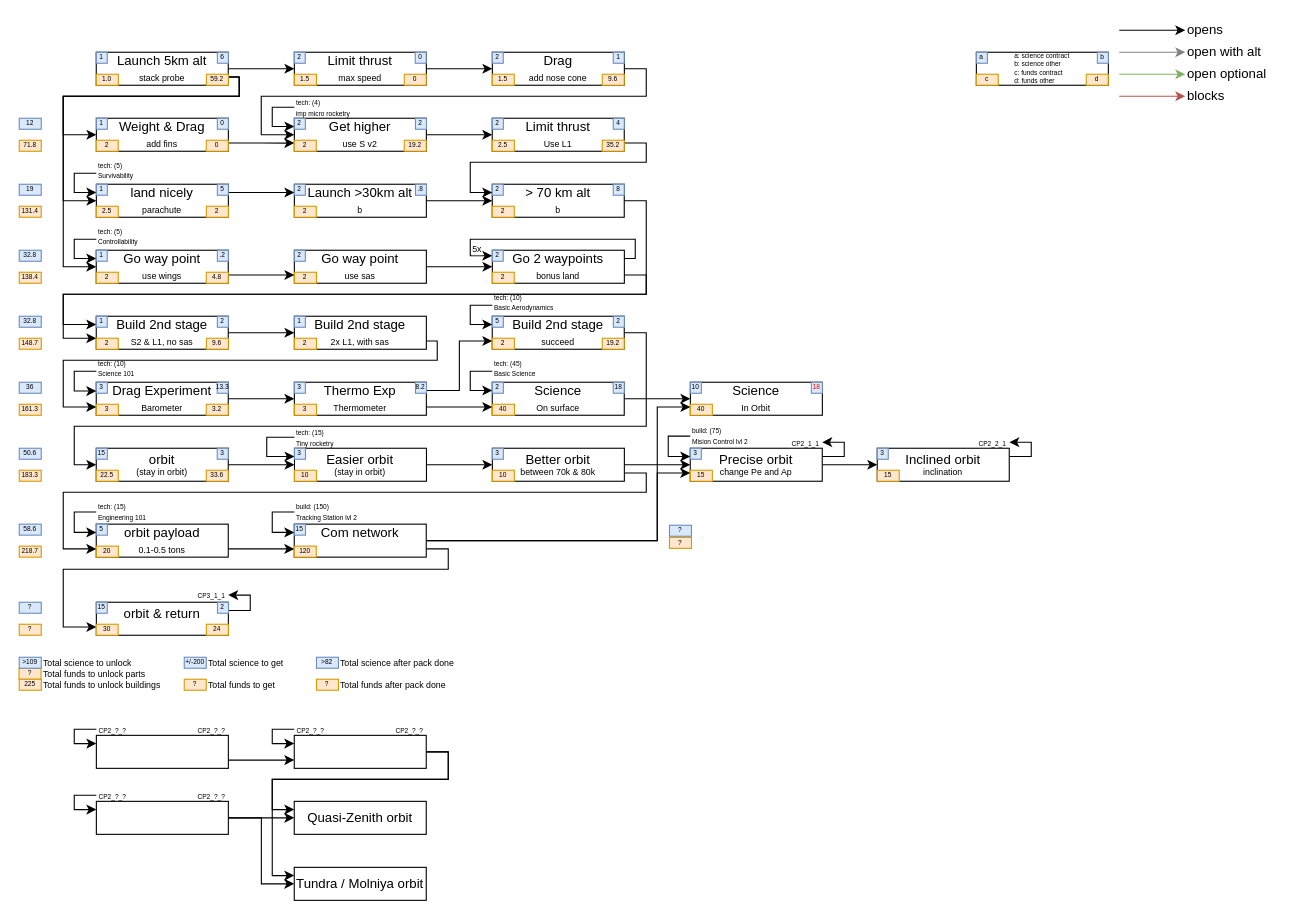
This 1293x920 diagram has some shape labels left out. Each missing label, with the centre of its shape:
"KSO orbit" belongs at pixel 359 751.
"orbit 250km" belongs at pixel 161 751.
"Polar orbit" belongs at pixel 161 817.
